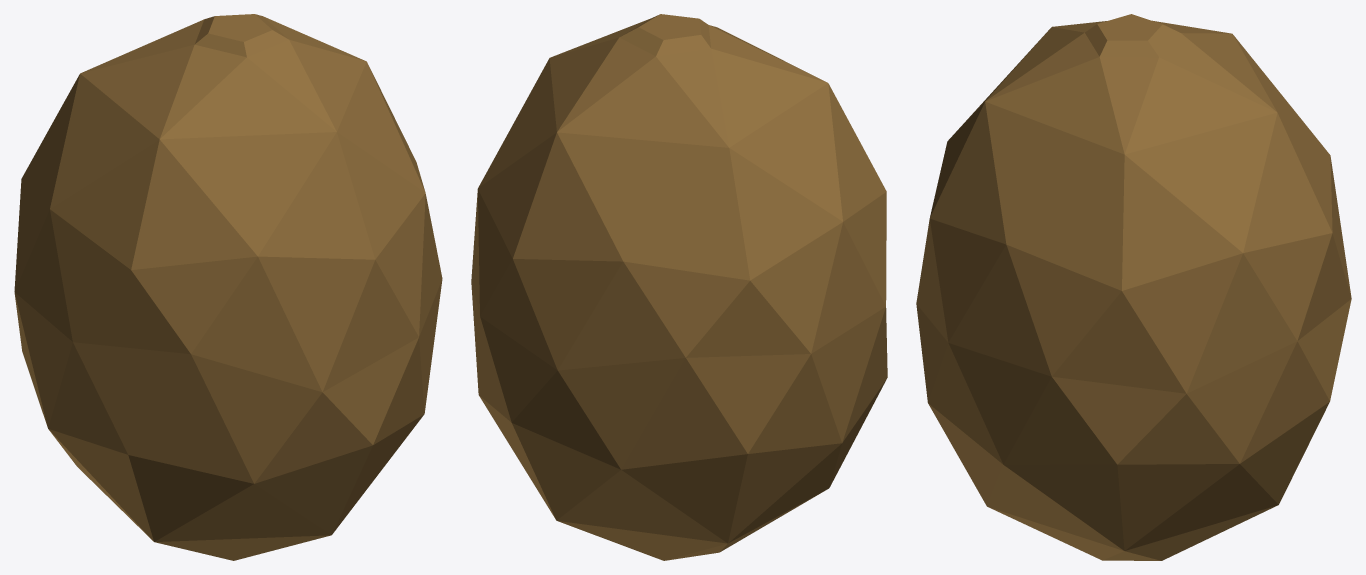
The model's file is kiwi.fbx.
3 views of the same model, side by side, from view 1: azimuth 30°, elevation 25°; view 2: azimuth 150°, elevation 25°; view 3: azimuth 270°, elevation 25° (orthographic).
Parts seen in each view (by area): view 1: kiwi; view 2: kiwi; view 3: kiwi.
Part boxes in pixels (<box>): kiwi: <box>14,14,442,560</box>; kiwi: <box>471,14,887,560</box>; kiwi: <box>916,14,1351,560</box>.
Size of the model in its own units: 97.68 by 134 by 100.
